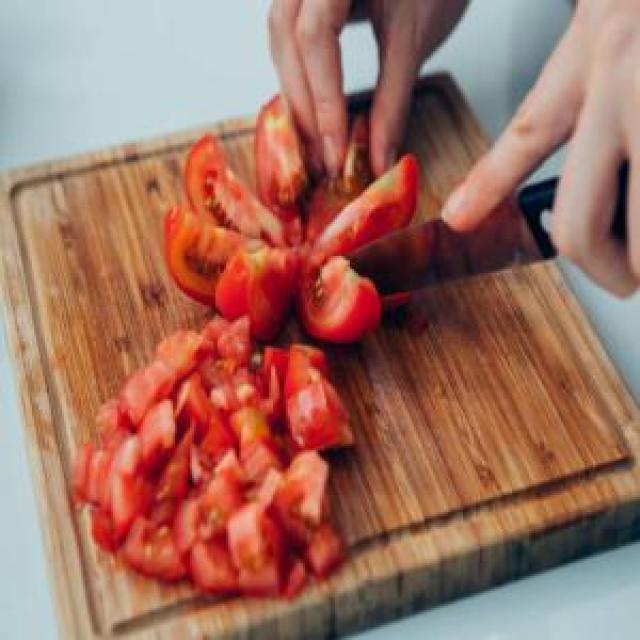knife: (341, 140, 638, 298)
